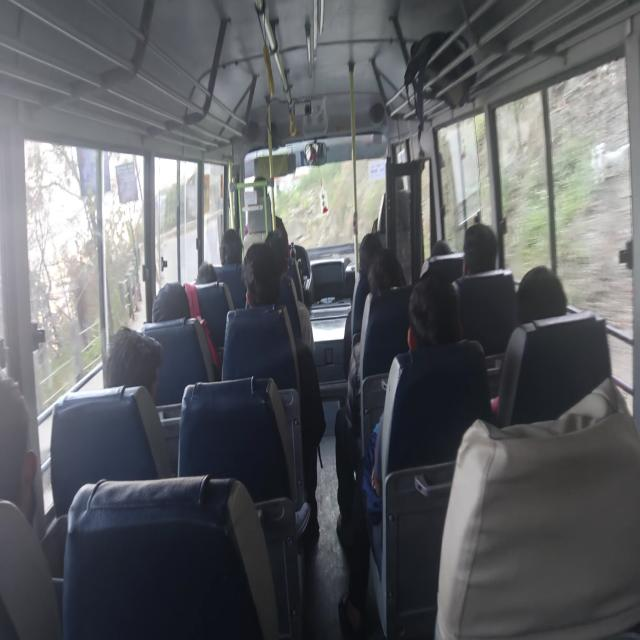person: (0, 350, 62, 573), (404, 273, 488, 377), (514, 260, 589, 358), (110, 322, 158, 414), (361, 251, 419, 317), (460, 207, 507, 280), (152, 272, 197, 338), (190, 250, 233, 309), (434, 202, 465, 264), (248, 248, 277, 309), (355, 231, 384, 266), (208, 222, 233, 261), (267, 225, 291, 260)
